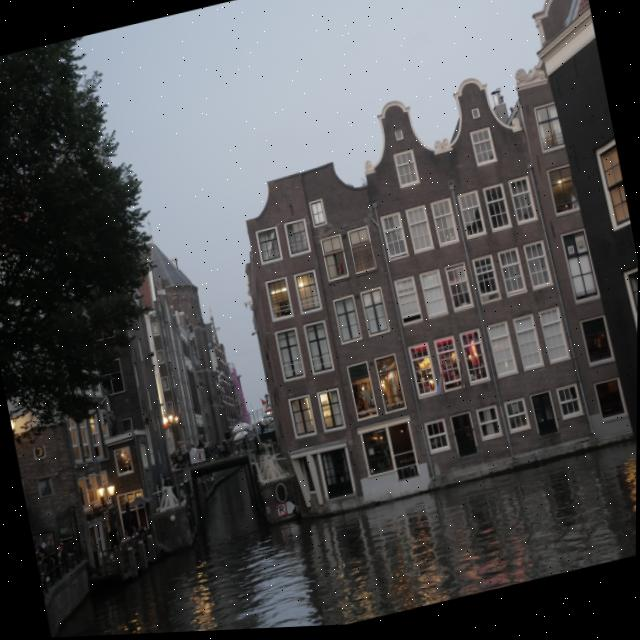building: (212, 51, 637, 528), (39, 219, 273, 566), (518, 0, 640, 492)
